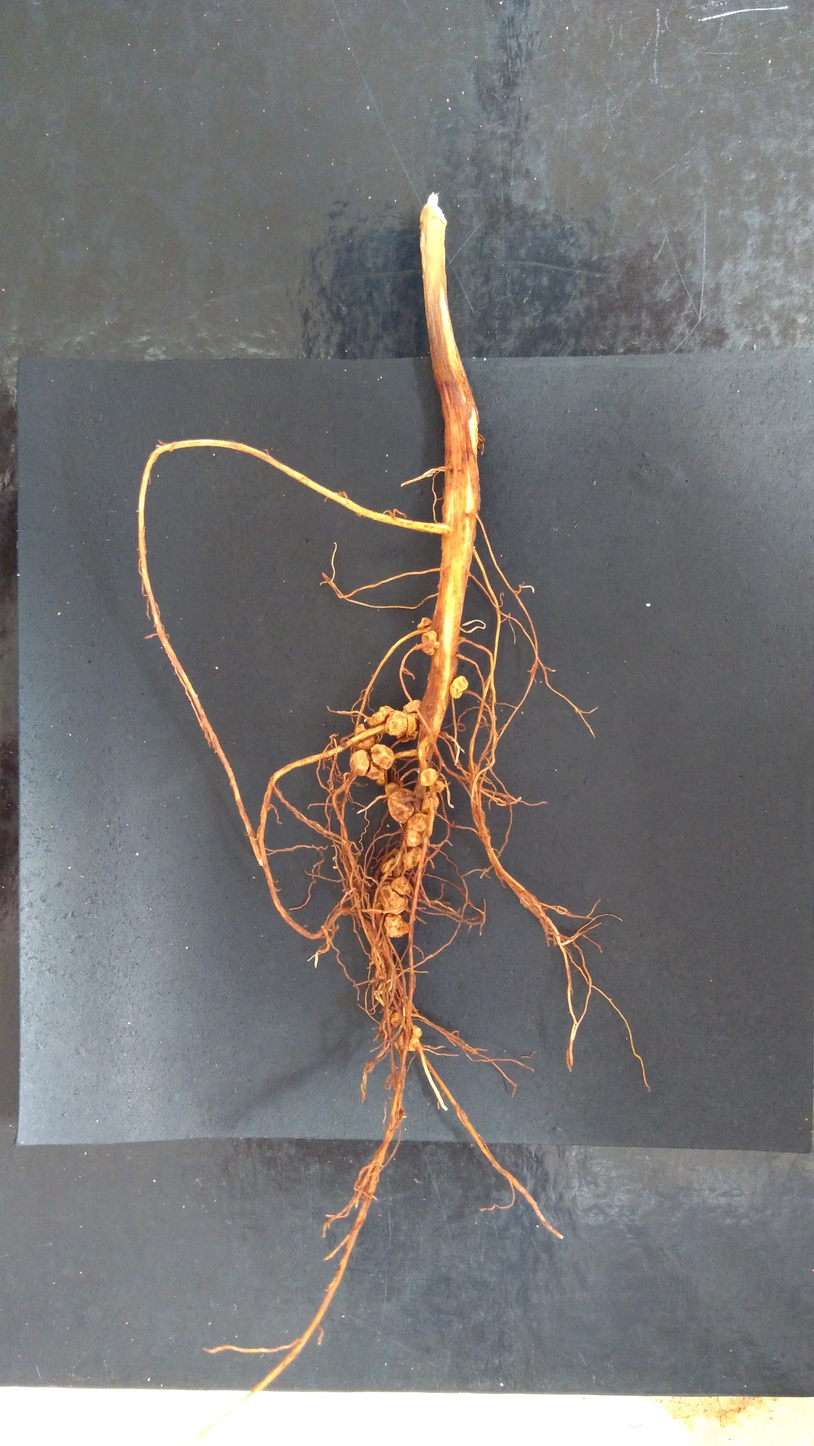nodule: (385, 790, 415, 825), (380, 884, 409, 915), (369, 741, 395, 771), (405, 811, 425, 848), (384, 912, 410, 940), (346, 748, 369, 779), (384, 710, 408, 737), (402, 846, 424, 872), (449, 675, 470, 700), (353, 723, 374, 748), (390, 876, 414, 897), (364, 706, 387, 727), (407, 1024, 423, 1053), (419, 630, 436, 657), (421, 789, 440, 813), (364, 760, 385, 780), (419, 767, 438, 786), (380, 856, 396, 878), (405, 711, 418, 738), (402, 699, 422, 714), (416, 617, 434, 630), (390, 1011, 402, 1029), (429, 780, 445, 792), (396, 1030, 405, 1051), (385, 782, 399, 795), (381, 704, 394, 718), (405, 729, 418, 742), (396, 733, 410, 743), (375, 775, 386, 785)
